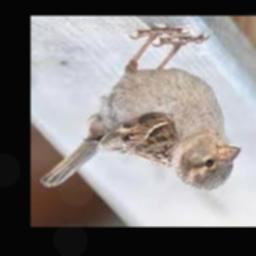Sparrow: (40, 29, 241, 192)
